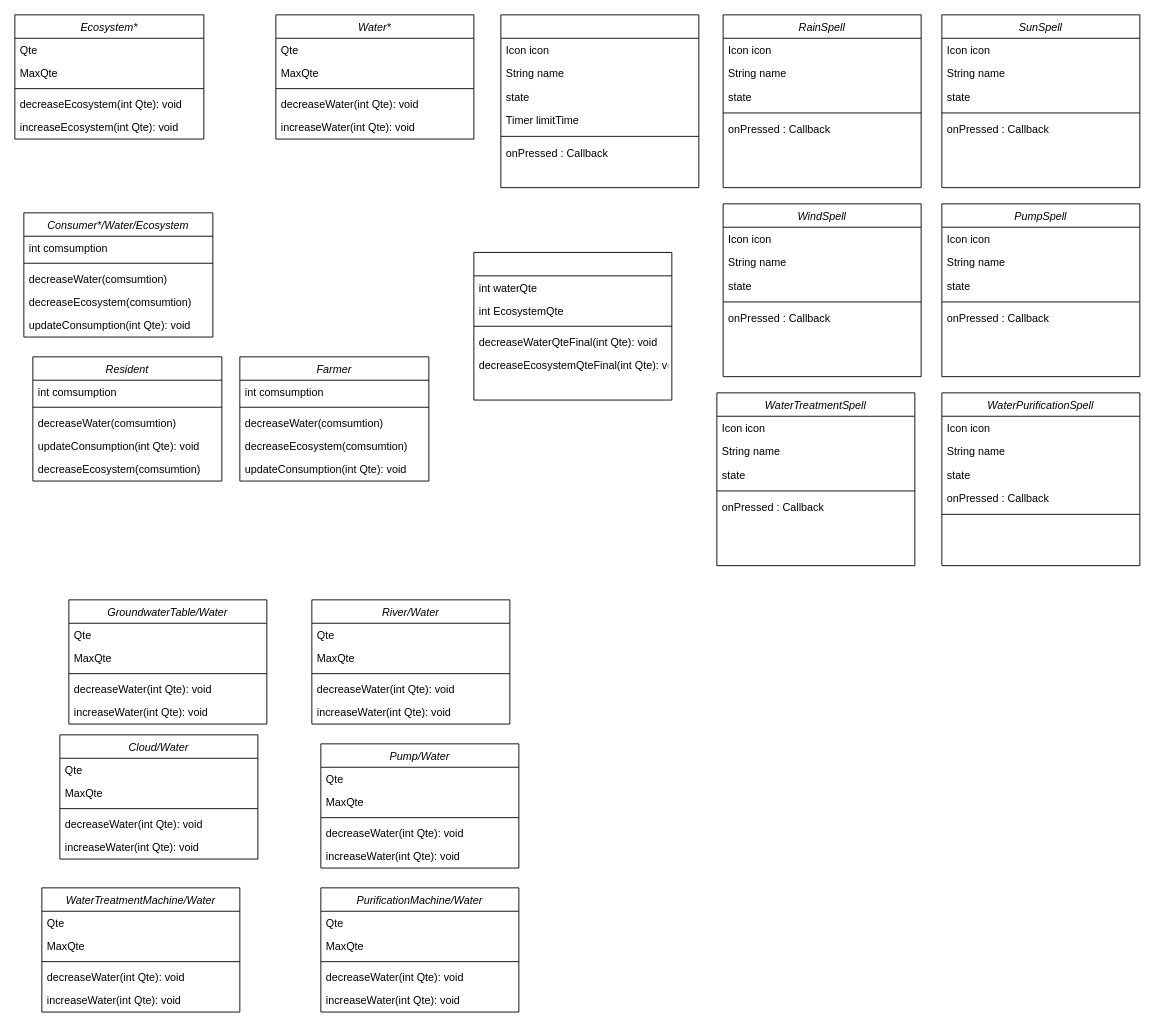
Image size: 1155x1027. Some labels were removed from this diagram. The box of each missing label's shape, as (x1, y1, x2, y2) in pixels:
Game: (473, 252, 672, 400)
SpellButton*: (500, 14, 699, 188)
